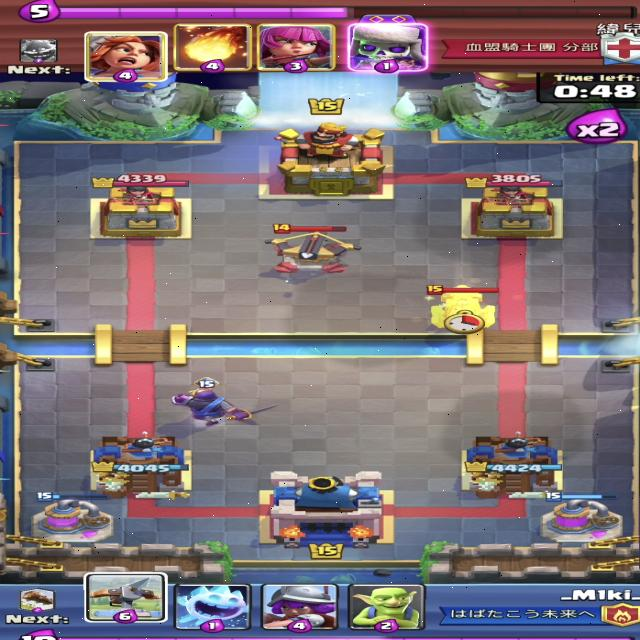Enemy-Tesla: (426, 284, 499, 331)
Enemy-XBow: (264, 224, 362, 274)
Player-ElixirPump: (539, 491, 626, 544), (30, 492, 116, 544)
Player-Knight-Evo: (170, 376, 280, 427)
